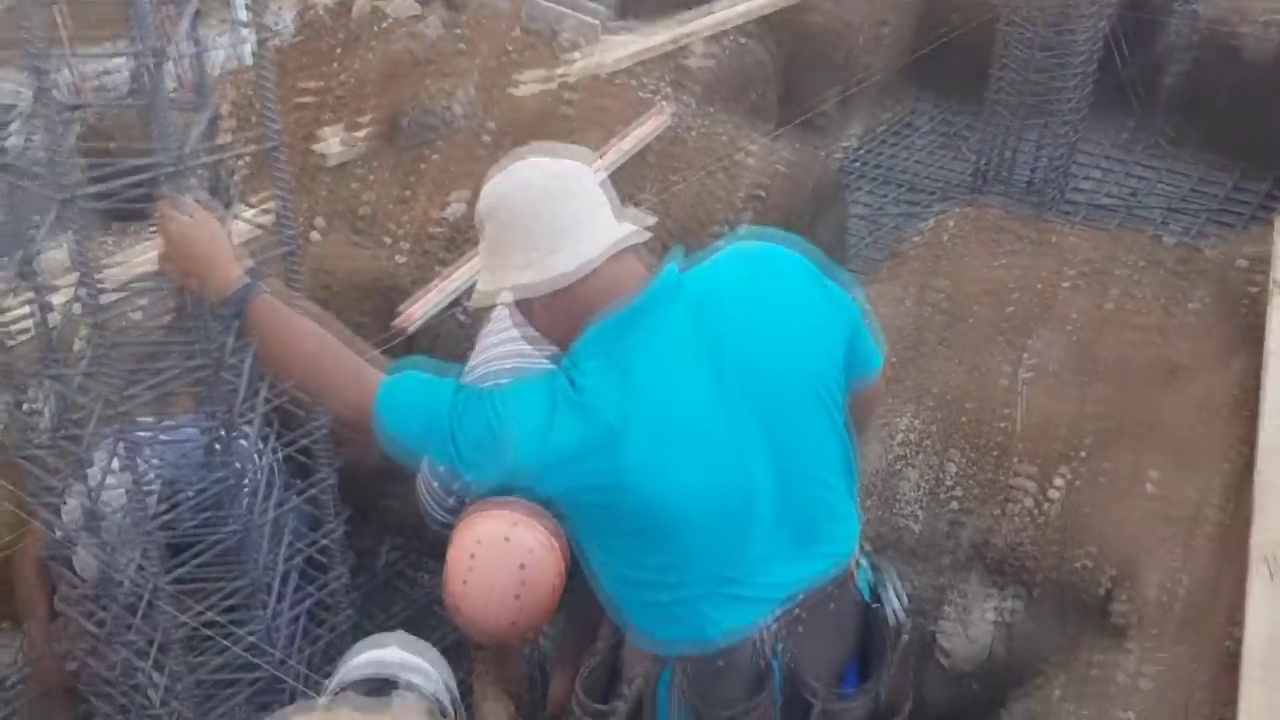helmet: (446, 494, 574, 646), (317, 644, 454, 701)
helmet-off: (466, 142, 665, 348)
person: (148, 83, 877, 717)
